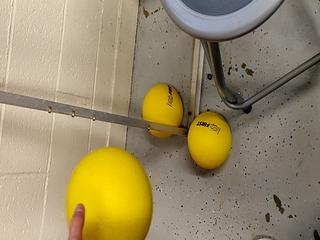power_cell: (58, 146, 160, 240), (184, 110, 235, 168), (138, 83, 186, 136)
